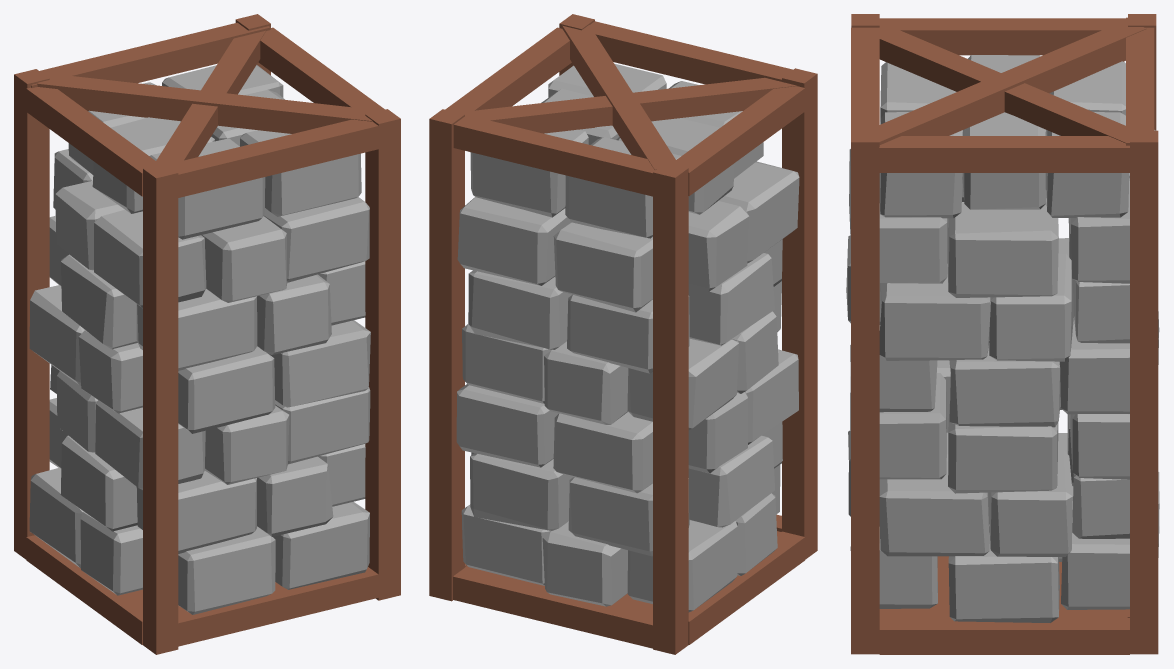
Rendered from LightStoneDecorationTallConstructionBrickContainer1.fbx.
3 renders of one model, left to right at view 1: azimuth 30°, elevation 25°; view 2: azimuth 150°, elevation 25°; view 3: azimuth 270°, elevation 25°, orthographic. The views are drawn at different scales.
Parts seen in each view (by area): view 1: LightStoneDecorationTallConstructionBrickContainer1; view 2: LightStoneDecorationTallConstructionBrickContainer1; view 3: LightStoneDecorationTallConstructionBrickContainer1.
Boxes of the visible parts, x1,y1,x2,y2 form: LightStoneDecorationTallConstructionBrickContainer1: (14,14,400,654); LightStoneDecorationTallConstructionBrickContainer1: (429,14,817,654); LightStoneDecorationTallConstructionBrickContainer1: (846,14,1159,654).
Bounding box in the file's own units: 241 × 239 × 430.
